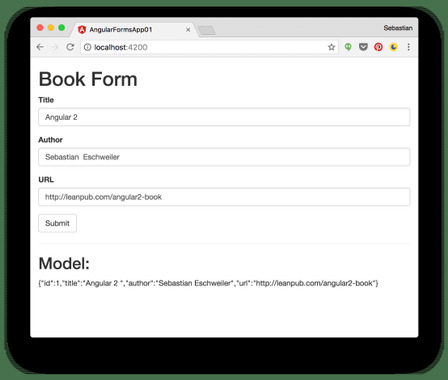_form_: (1, 1, 416, 380)
button: (36, 213, 79, 233)
field: (35, 145, 412, 169), (37, 185, 413, 208), (37, 106, 413, 127)
